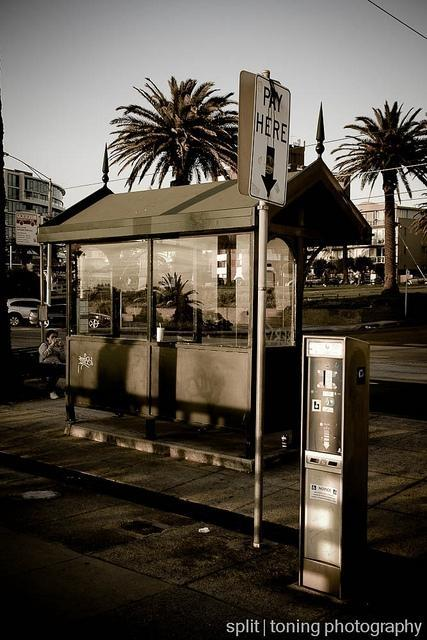car: (38, 304, 110, 328), (8, 298, 50, 328)
